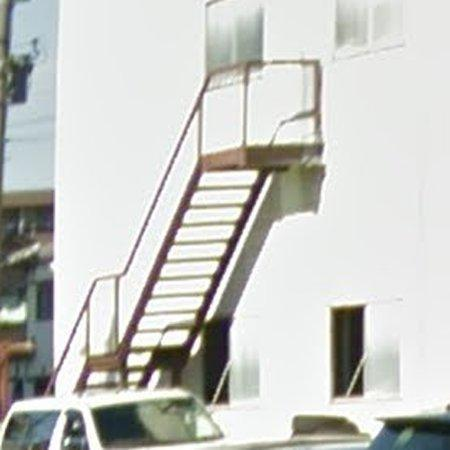stairs: (112, 62, 323, 387)
